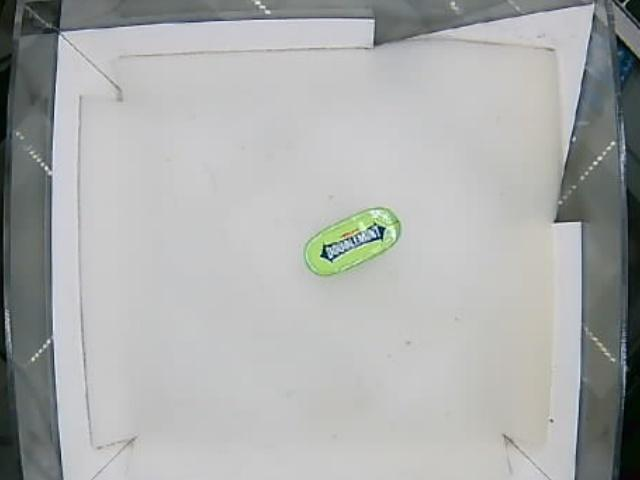Bottle: (302, 207, 401, 279)
